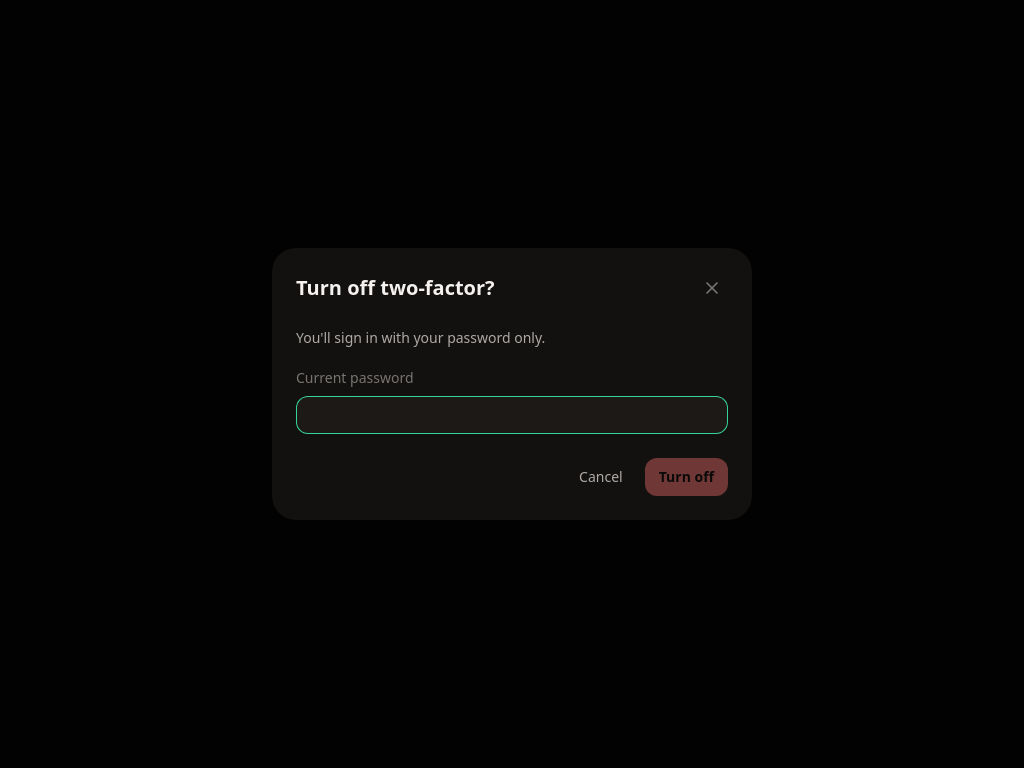
it: ManageTwoFactorModal › says when the password is wrong and stays open
In the password field labelled "Current password": x=512, y=415 [296, 396, 728, 434], type "nope"
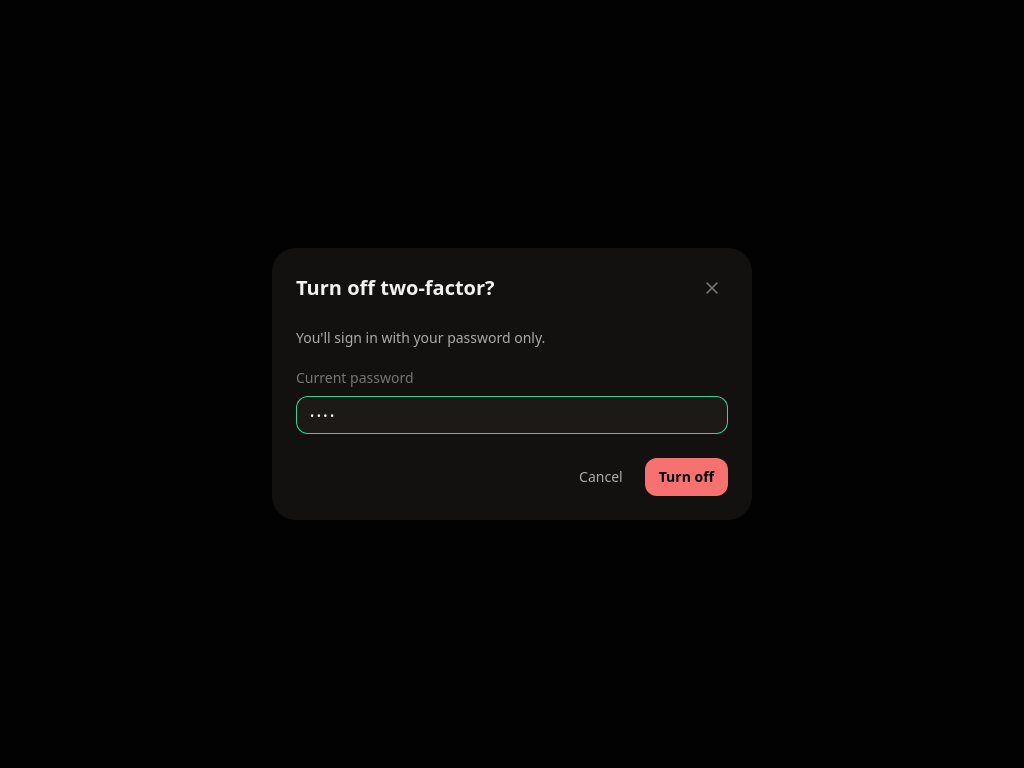
Click the button "Turn off": x=686, y=477 [645, 458, 728, 496]
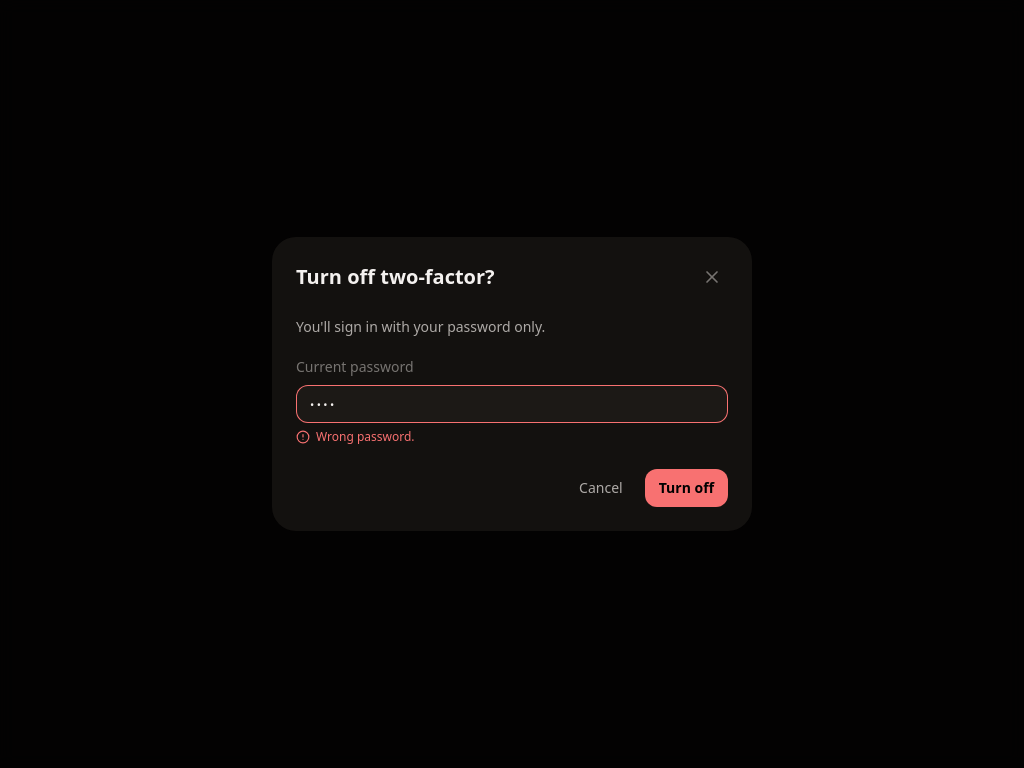
Now the text "Wrong password." is shown, box [296, 428, 414, 445]
